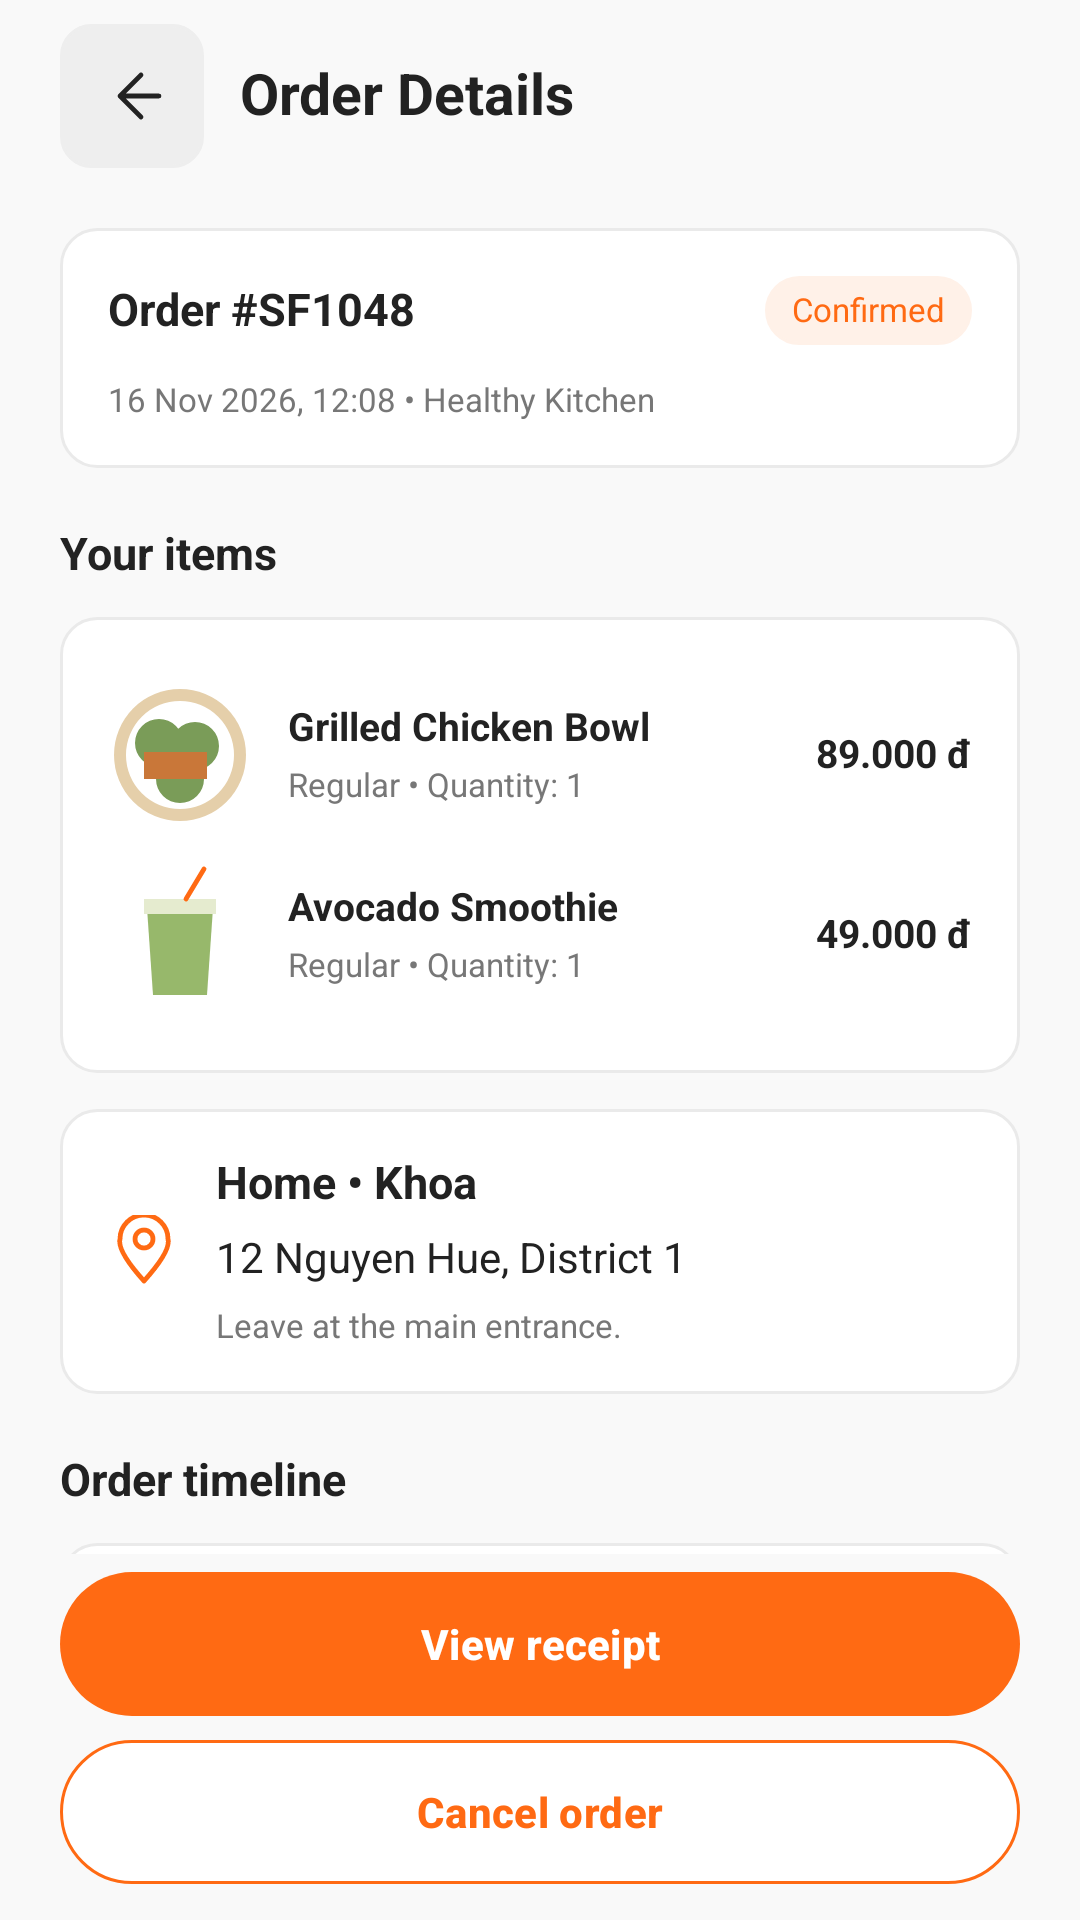

Icon click points for this 1080 × 1920 phone screenshot, format (x,y):
Back: (132,96)
tv bowl: (180,755)
tv pin: (144,1249)
tv smoothie: (180,930)
